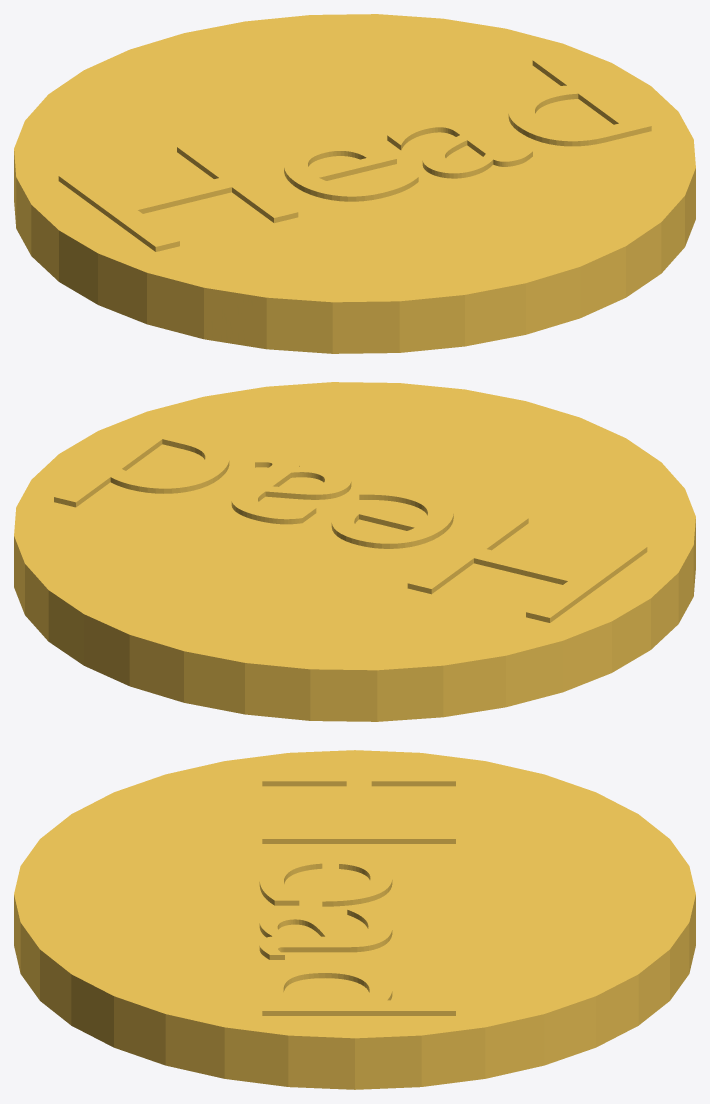
The model's file is Coin.glb.
3 renders of one model, top to bottom at view 1: azimuth 30°, elevation 25°; view 2: azimuth 150°, elevation 25°; view 3: azimuth 270°, elevation 25°, orthographic.
Parts seen in each view (by area): view 1: Coin, Head; view 2: Coin, Head; view 3: Coin, Head.
Part boxes in pixels (x1=…): Coin: x1=14, y1=14, x2=695, y2=353; Head: x1=58, y1=55, x2=651, y2=251; Coin: x1=14, y1=382, x2=695, y2=721; Head: x1=54, y1=426, x2=647, y2=622; Coin: x1=14, y1=750, x2=695, y2=1089; Head: x1=259, y1=769, x2=455, y2=1015.
Size of the model in its own units: 0.6 by 0.06 by 0.6.
